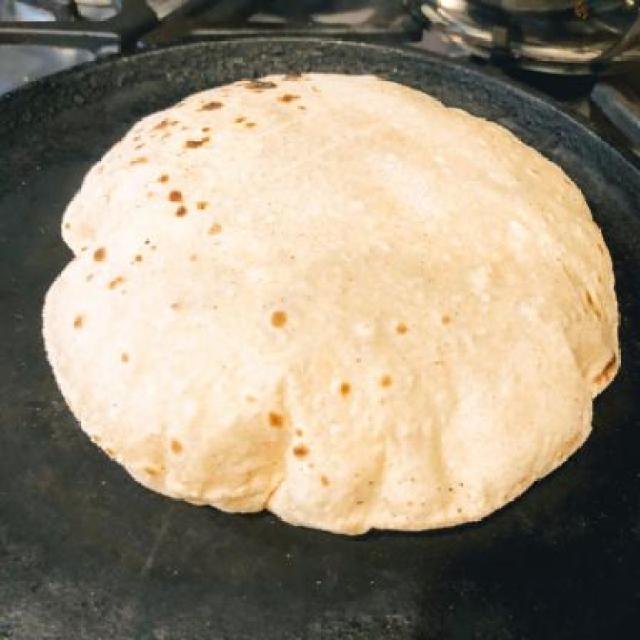chapati: (43, 72, 620, 534)
